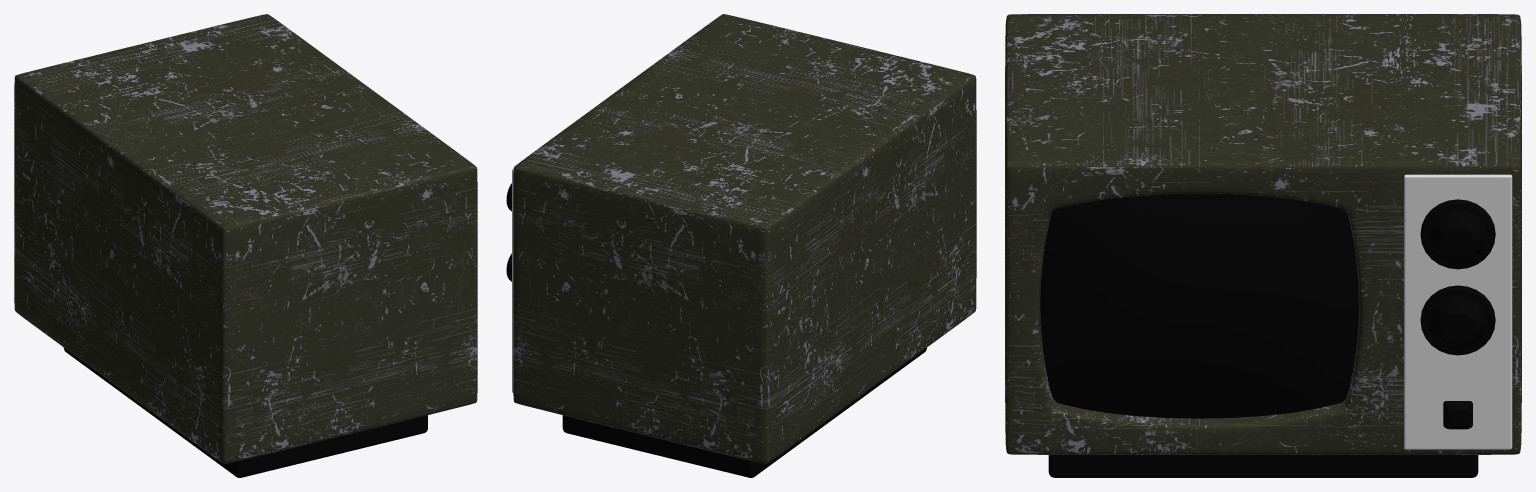
The model's file is old_microwave_1.glb.
The picture shows the model from 3 angles, left to right: view 1: azimuth 30°, elevation 25°; view 2: azimuth 150°, elevation 25°; view 3: azimuth 270°, elevation 25°; orthographic projection. The views are drawn at different scales.
Visible parts, largest first — view 1: TV, Plane.018; view 2: TV, Plane.018; view 3: TV, Plane.022, Plane.021, Plane.018, Circle.002, Circle.003, Plane.020.
Boxes of the visible parts, x1=… form: TV: x1=14, y1=14, x2=477, y2=464; Plane.018: x1=63, y1=347, x2=427, y2=477; TV: x1=513, y1=14, x2=976, y2=463; Plane.018: x1=562, y1=348, x2=926, y2=477; TV: x1=1005, y1=14, x2=1521, y2=454; Plane.022: x1=1040, y1=193, x2=1358, y2=418; Plane.021: x1=1404, y1=174, x2=1512, y2=449; Plane.018: x1=1048, y1=455, x2=1478, y2=477; Circle.002: x1=1420, y1=199, x2=1495, y2=269; Circle.003: x1=1420, y1=285, x2=1495, y2=355; Plane.020: x1=1443, y1=401, x2=1472, y2=429.
Bounding box in the file's own units: 1 × 0.9352 × 1.31.
Materials: 4 (1 with a texture image).
